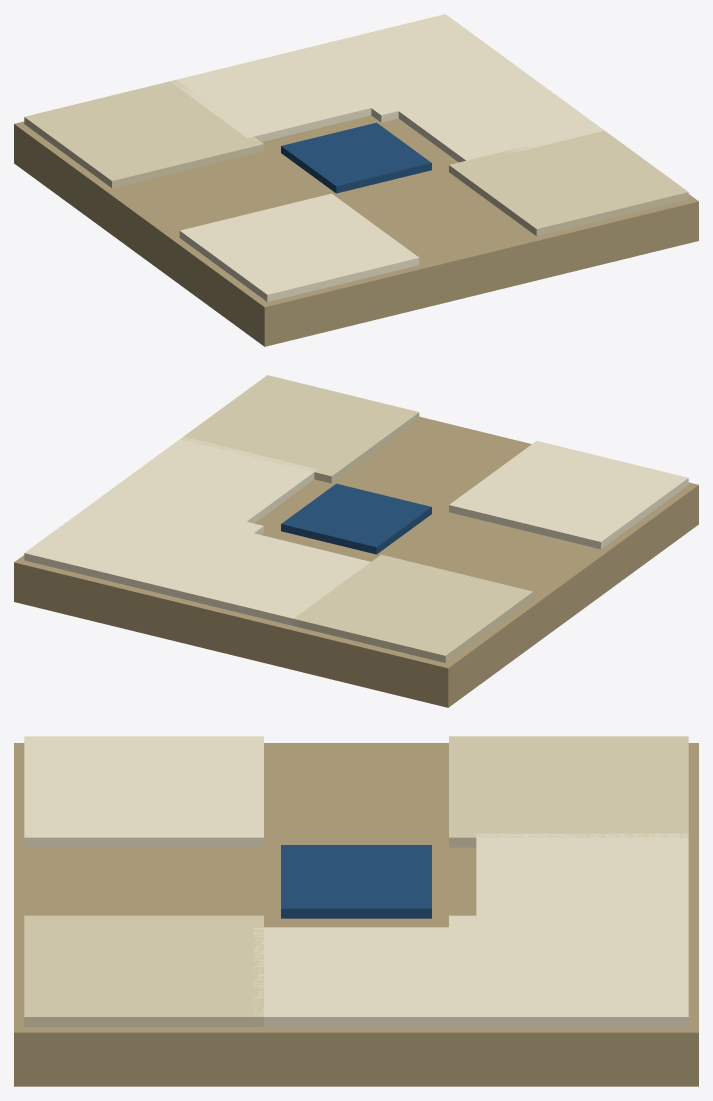
Rendered from path_corner.glb.
3 renders of one model, top to bottom at view 1: azimuth 30°, elevation 25°; view 2: azimuth 150°, elevation 25°; view 3: azimuth 270°, elevation 25°, orthographic. The views are drawn at different scales.
Visible parts, largest first — view 1: Shared_path_corner; view 2: Shared_path_corner; view 3: Shared_path_corner.
Boxes of the visible parts, x1,y1,x2,y2 form: Shared_path_corner: (14,14,698,346); Shared_path_corner: (14,375,698,707); Shared_path_corner: (14,736,698,1086).
Size of the model in its own units: 2 by 0.21 by 2.
